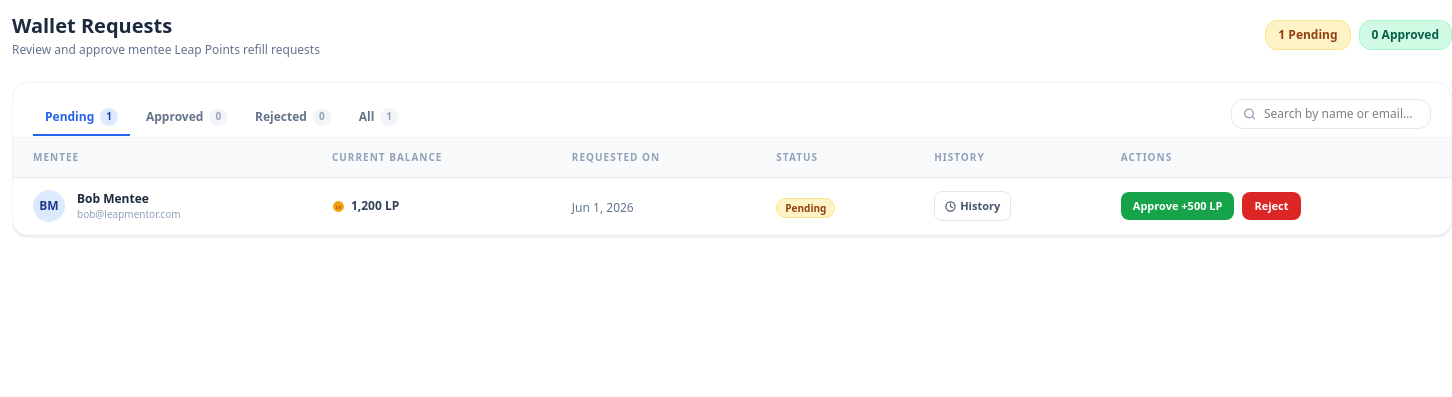
Test case: AdminWalletRequests › shows empty state with search-specific label when searching yields no matches
Expected: the text "Bob Mentee" is shown, top-left (77, 190), bottom-right (149, 206)
In the field with placeholder "Search by name or email…": (1331, 114) top-left (1231, 99), bottom-right (1431, 129), type "zzz-no-match"
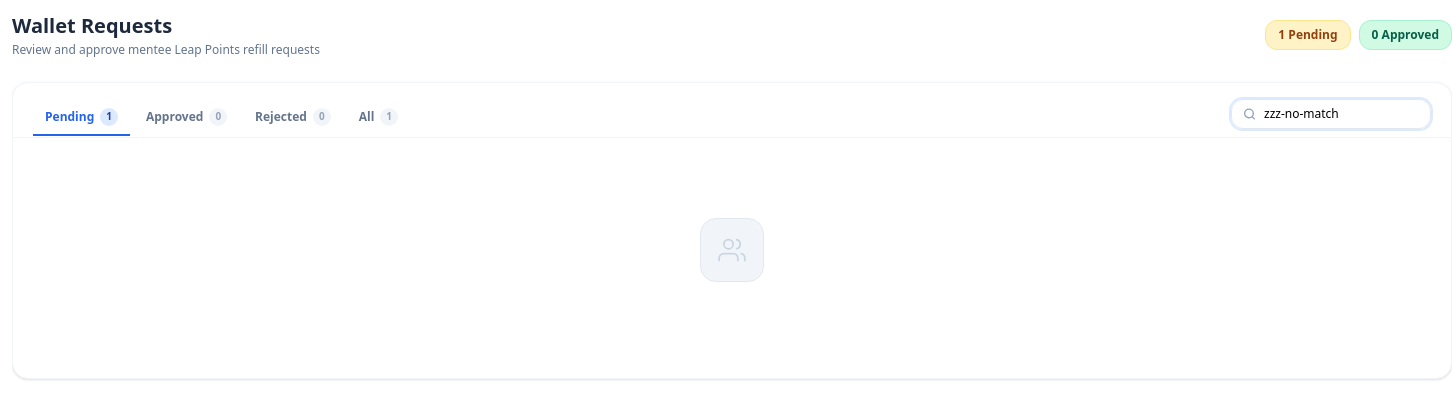
Now the text "Bob Mentee" is gone
